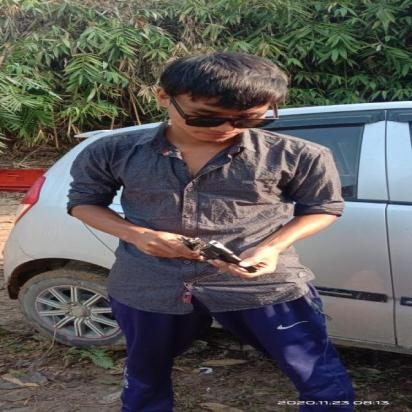Gun: (160, 235, 276, 276)
